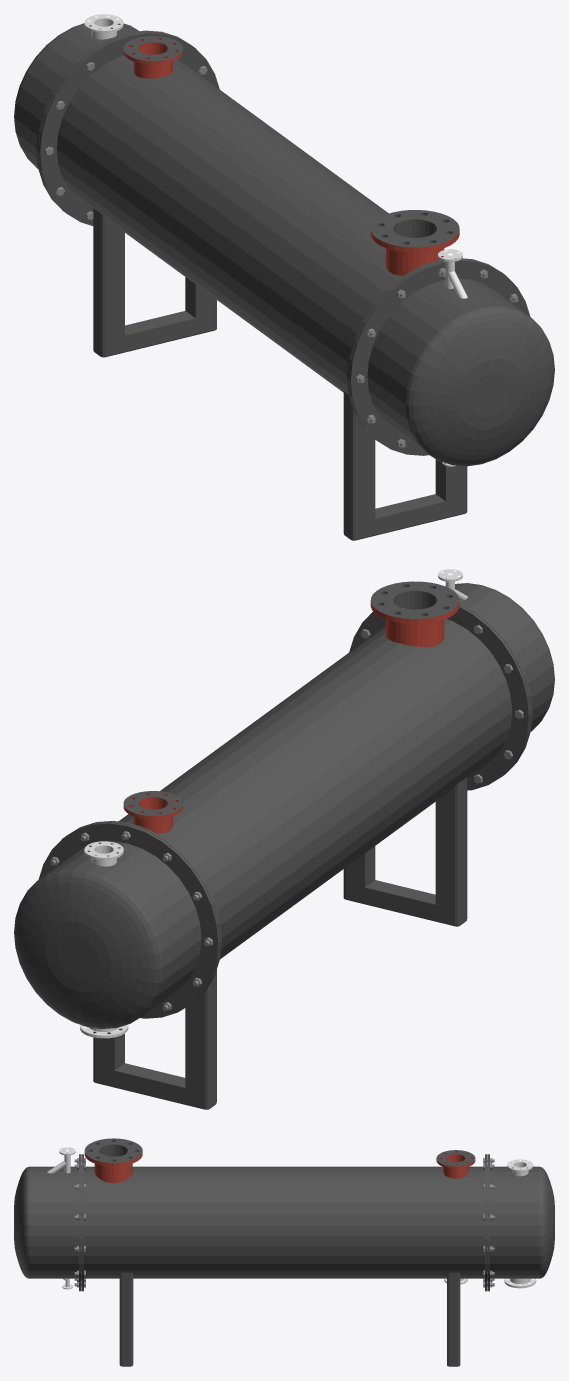
The picture shows the model from 3 angles, top to bottom: view 1: azimuth 30°, elevation 25°; view 2: azimuth 150°, elevation 25°; view 3: azimuth 270°, elevation 25°; orthographic projection. The views are drawn at different scales.
Parts seen in each view (by area): view 1: Cylinder, Cube.001, Cube, Cylinder.001, Cylinder.002, Cylinder.004, Cylinder.005; view 2: Cylinder, Cube, Cube.001, Cylinder.001, Cylinder.002, Cylinder.004; view 3: Cylinder, Cylinder.001, Cube, Cube.001, Cylinder.002, Cylinder.004, Cylinder.005, Cylinder.009, Cylinder.003, Cylinder.007.
Boxes of the visible parts, <box> form: Cylinder: <box>14,23,554,466</box>; Cube.001: <box>93,208,216,357</box>; Cube: <box>343,391,467,540</box>; Cylinder.001: <box>370,210,459,275</box>; Cylinder.002: <box>123,36,182,78</box>; Cylinder.004: <box>84,14,123,39</box>; Cylinder.005: <box>438,249,467,298</box>; Cylinder: <box>14,583,554,1028</box>; Cube: <box>343,777,467,926</box>; Cube.001: <box>93,970,216,1109</box>; Cylinder.001: <box>370,581,459,647</box>; Cylinder.002: <box>123,791,182,833</box>; Cylinder.004: <box>84,841,123,866</box>; Cylinder: <box>14,1154,554,1291</box>; Cylinder.001: <box>84,1138,142,1183</box>; Cube: <box>119,1272,133,1366</box>; Cube.001: <box>447,1272,460,1366</box>; Cylinder.002: <box>436,1150,475,1178</box>; Cylinder.004: <box>507,1159,533,1176</box>; Cylinder.005: <box>47,1147,75,1173</box>; Cylinder.009: <box>483,1158,494,1287</box>; Cylinder.003: <box>74,1158,85,1287</box>; Cylinder.007: <box>504,1278,536,1288</box>.
Bounding box in the file's own units: 2.45 × 3.89 × 9.65.
